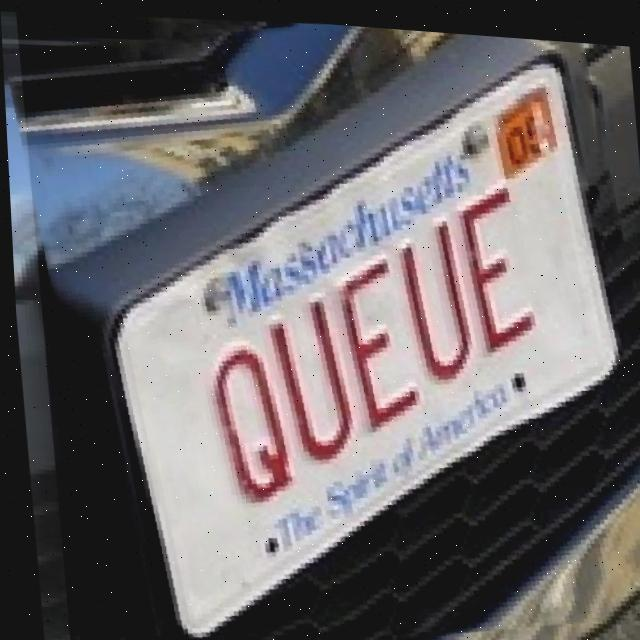LicensePlate: (15, 1, 640, 640)
